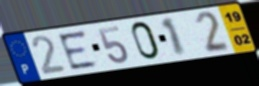0: (130, 20, 162, 61)
1: (160, 16, 188, 59)
2: (194, 10, 232, 56), (31, 34, 68, 77)
5: (96, 24, 130, 64)
E: (55, 29, 100, 72)
